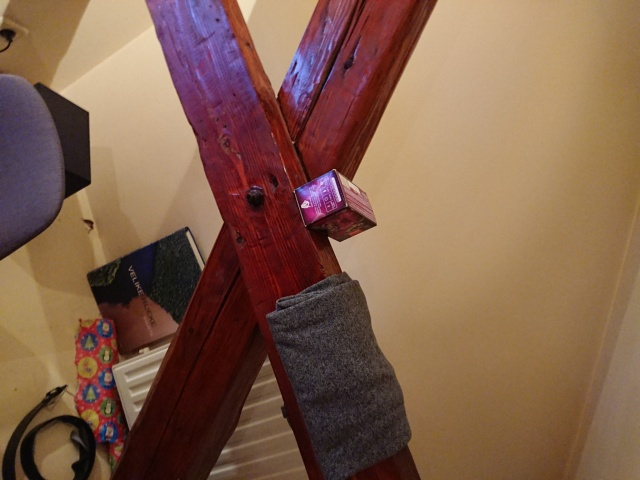Franck Black Currant Tea 60g: (290, 167, 379, 243)
